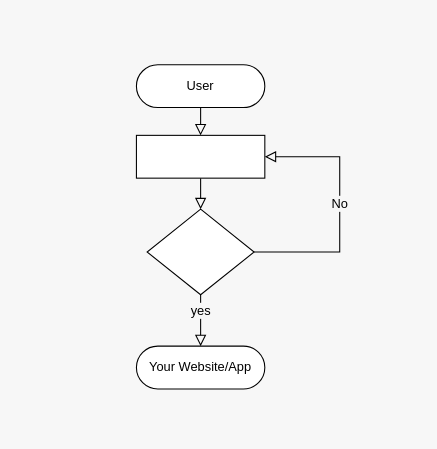
Image size: 437x449. Some labels were removed from this diagram. The centre of each missing label's shape, as x and y in pixels:
Bawabah: the point at 200,156
Login?: the point at 200,251
